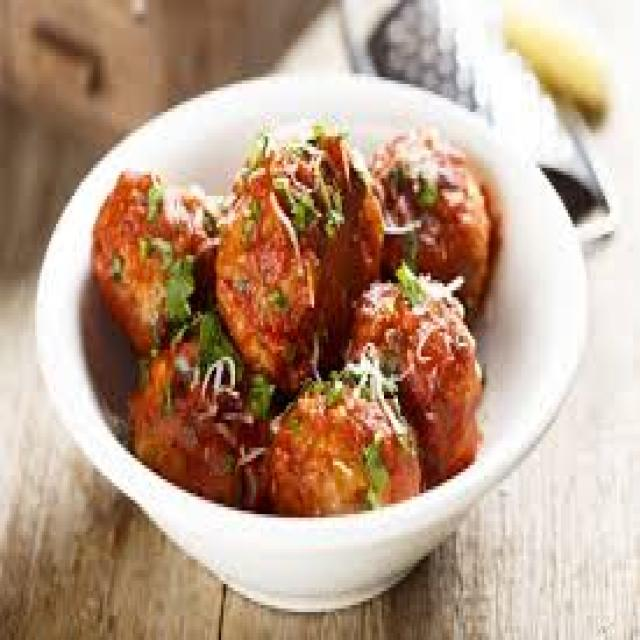Meatball: (210, 122, 389, 377), (253, 359, 432, 533), (351, 112, 500, 321), (344, 271, 486, 474), (86, 162, 226, 341)
